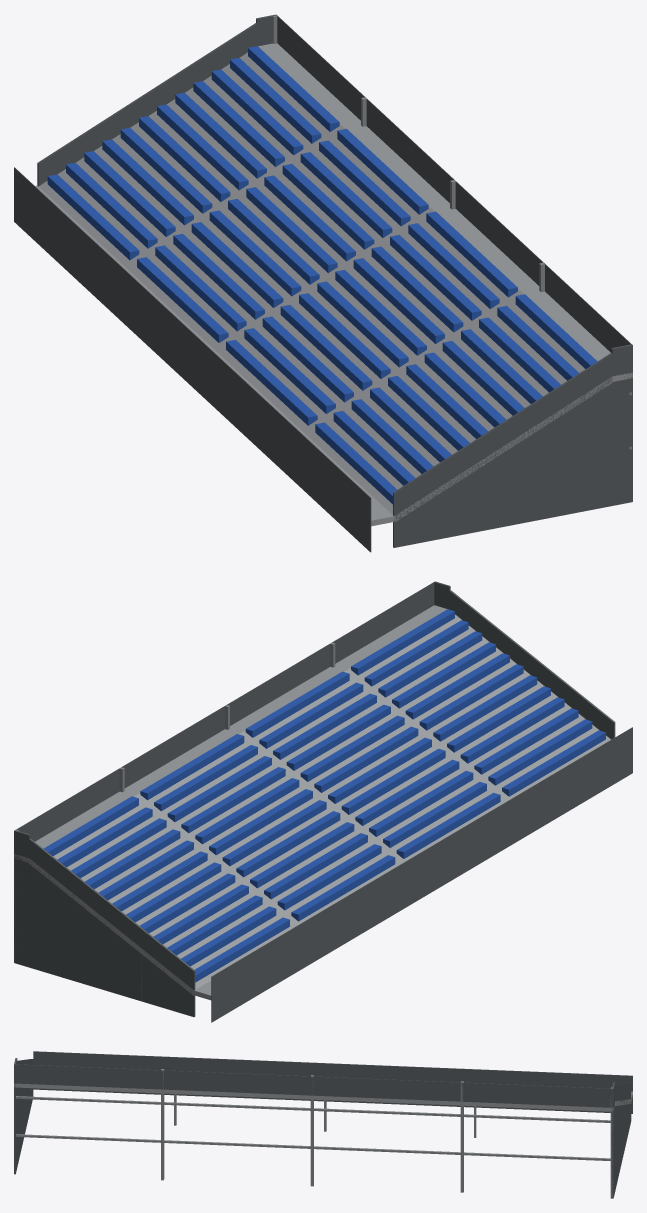
The model's file is mza_stand_lat_parabolica_d.glb.
3 views of the same model, one above another, from view 1: azimuth 30°, elevation 25°; view 2: azimuth 150°, elevation 25°; view 3: azimuth 270°, elevation 25° (orthographic). The views are drawn at different scales.
Visible parts, largest first — view 1: monza-lat-parabolica-d; view 2: monza-lat-parabolica-d; view 3: monza-lat-parabolica-d.
Boxes of the visible parts, x1,y1,x2,y2 form: monza-lat-parabolica-d: [14, 14, 632, 552]; monza-lat-parabolica-d: [14, 581, 632, 1022]; monza-lat-parabolica-d: [14, 1051, 632, 1198].
Bounding box in the file's own units: 14.78 × 6.92 × 35.35.
